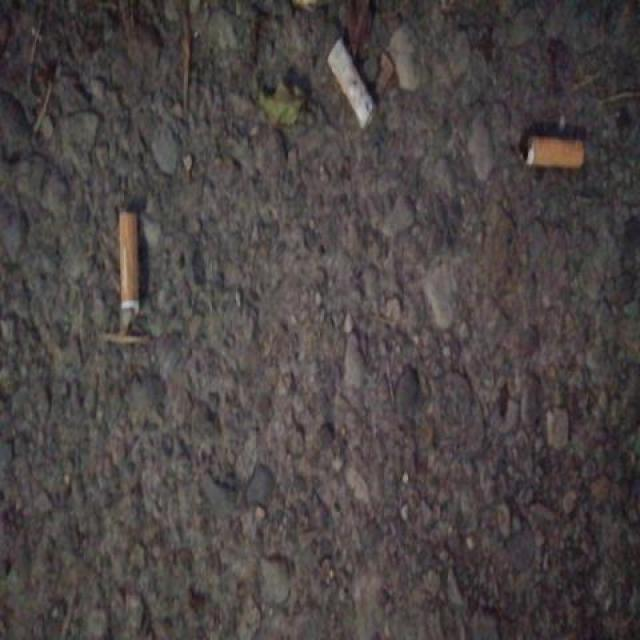non-organic waste: (323, 31, 382, 136), (112, 207, 145, 336), (517, 126, 592, 174)
